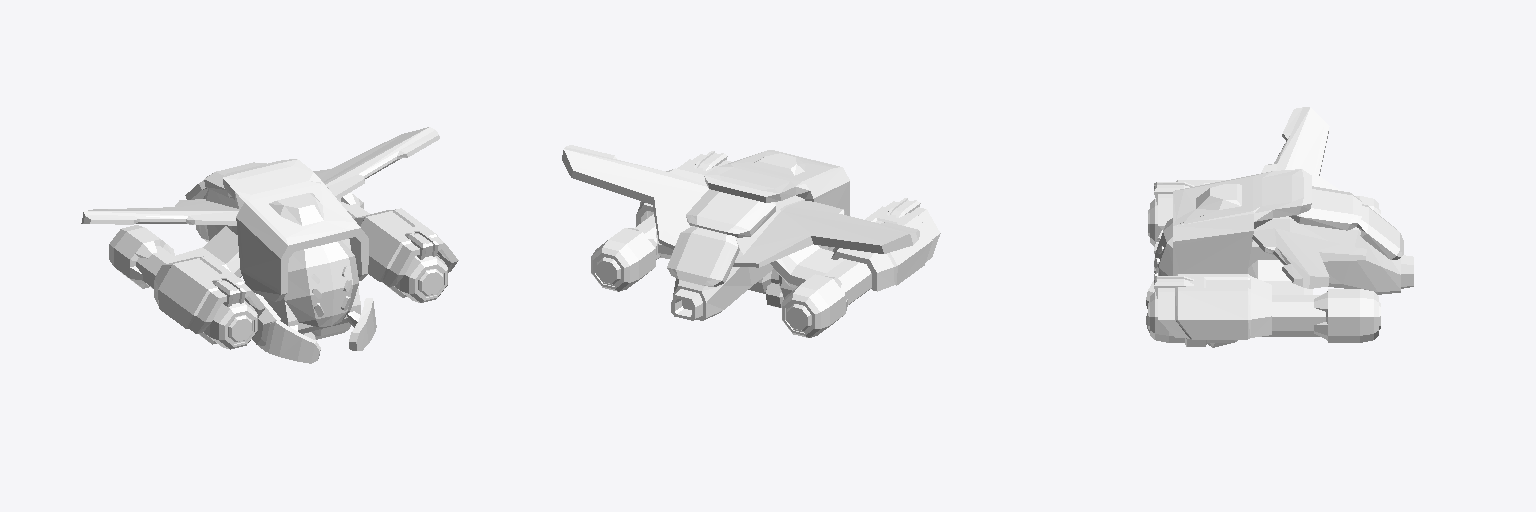
The model's file is DroneEnemy.obj.
3 views of the same model, side by side, from view 1: azimuth 30°, elevation 25°; view 2: azimuth 150°, elevation 25°; view 3: azimuth 270°, elevation 25° (orthographic).
Visible parts, largest first — view 1: DroneEnemy; view 2: DroneEnemy; view 3: DroneEnemy.
Boxes of the visible parts, <box> form: DroneEnemy: <box>81,127,458,363</box>; DroneEnemy: <box>562,145,940,337</box>; DroneEnemy: <box>1146,107,1413,347</box>.
Bounding box in the file's own units: 6.64 × 2.49 × 3.99.